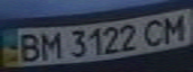1: (84, 25, 106, 57)
2: (118, 20, 145, 52), (103, 24, 124, 55)
3: (66, 27, 87, 58)
B: (12, 32, 45, 63)
C: (139, 16, 172, 47)
M: (157, 11, 190, 43), (33, 29, 63, 61)
